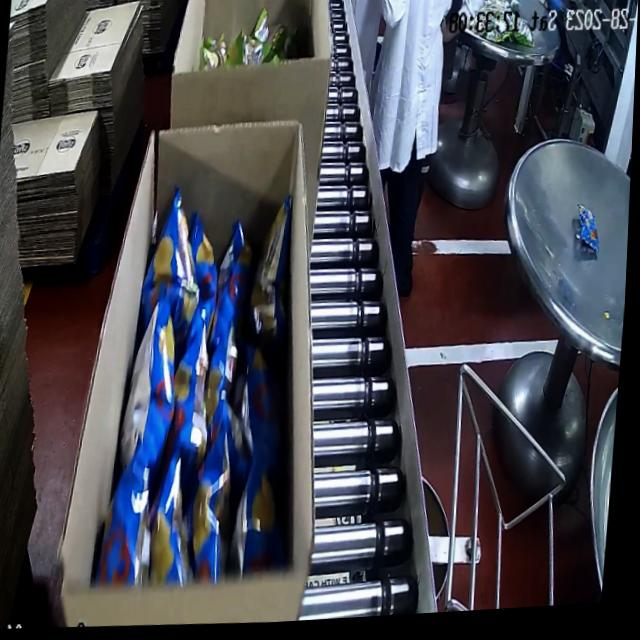PAPRIKA: (91, 194, 303, 596)
